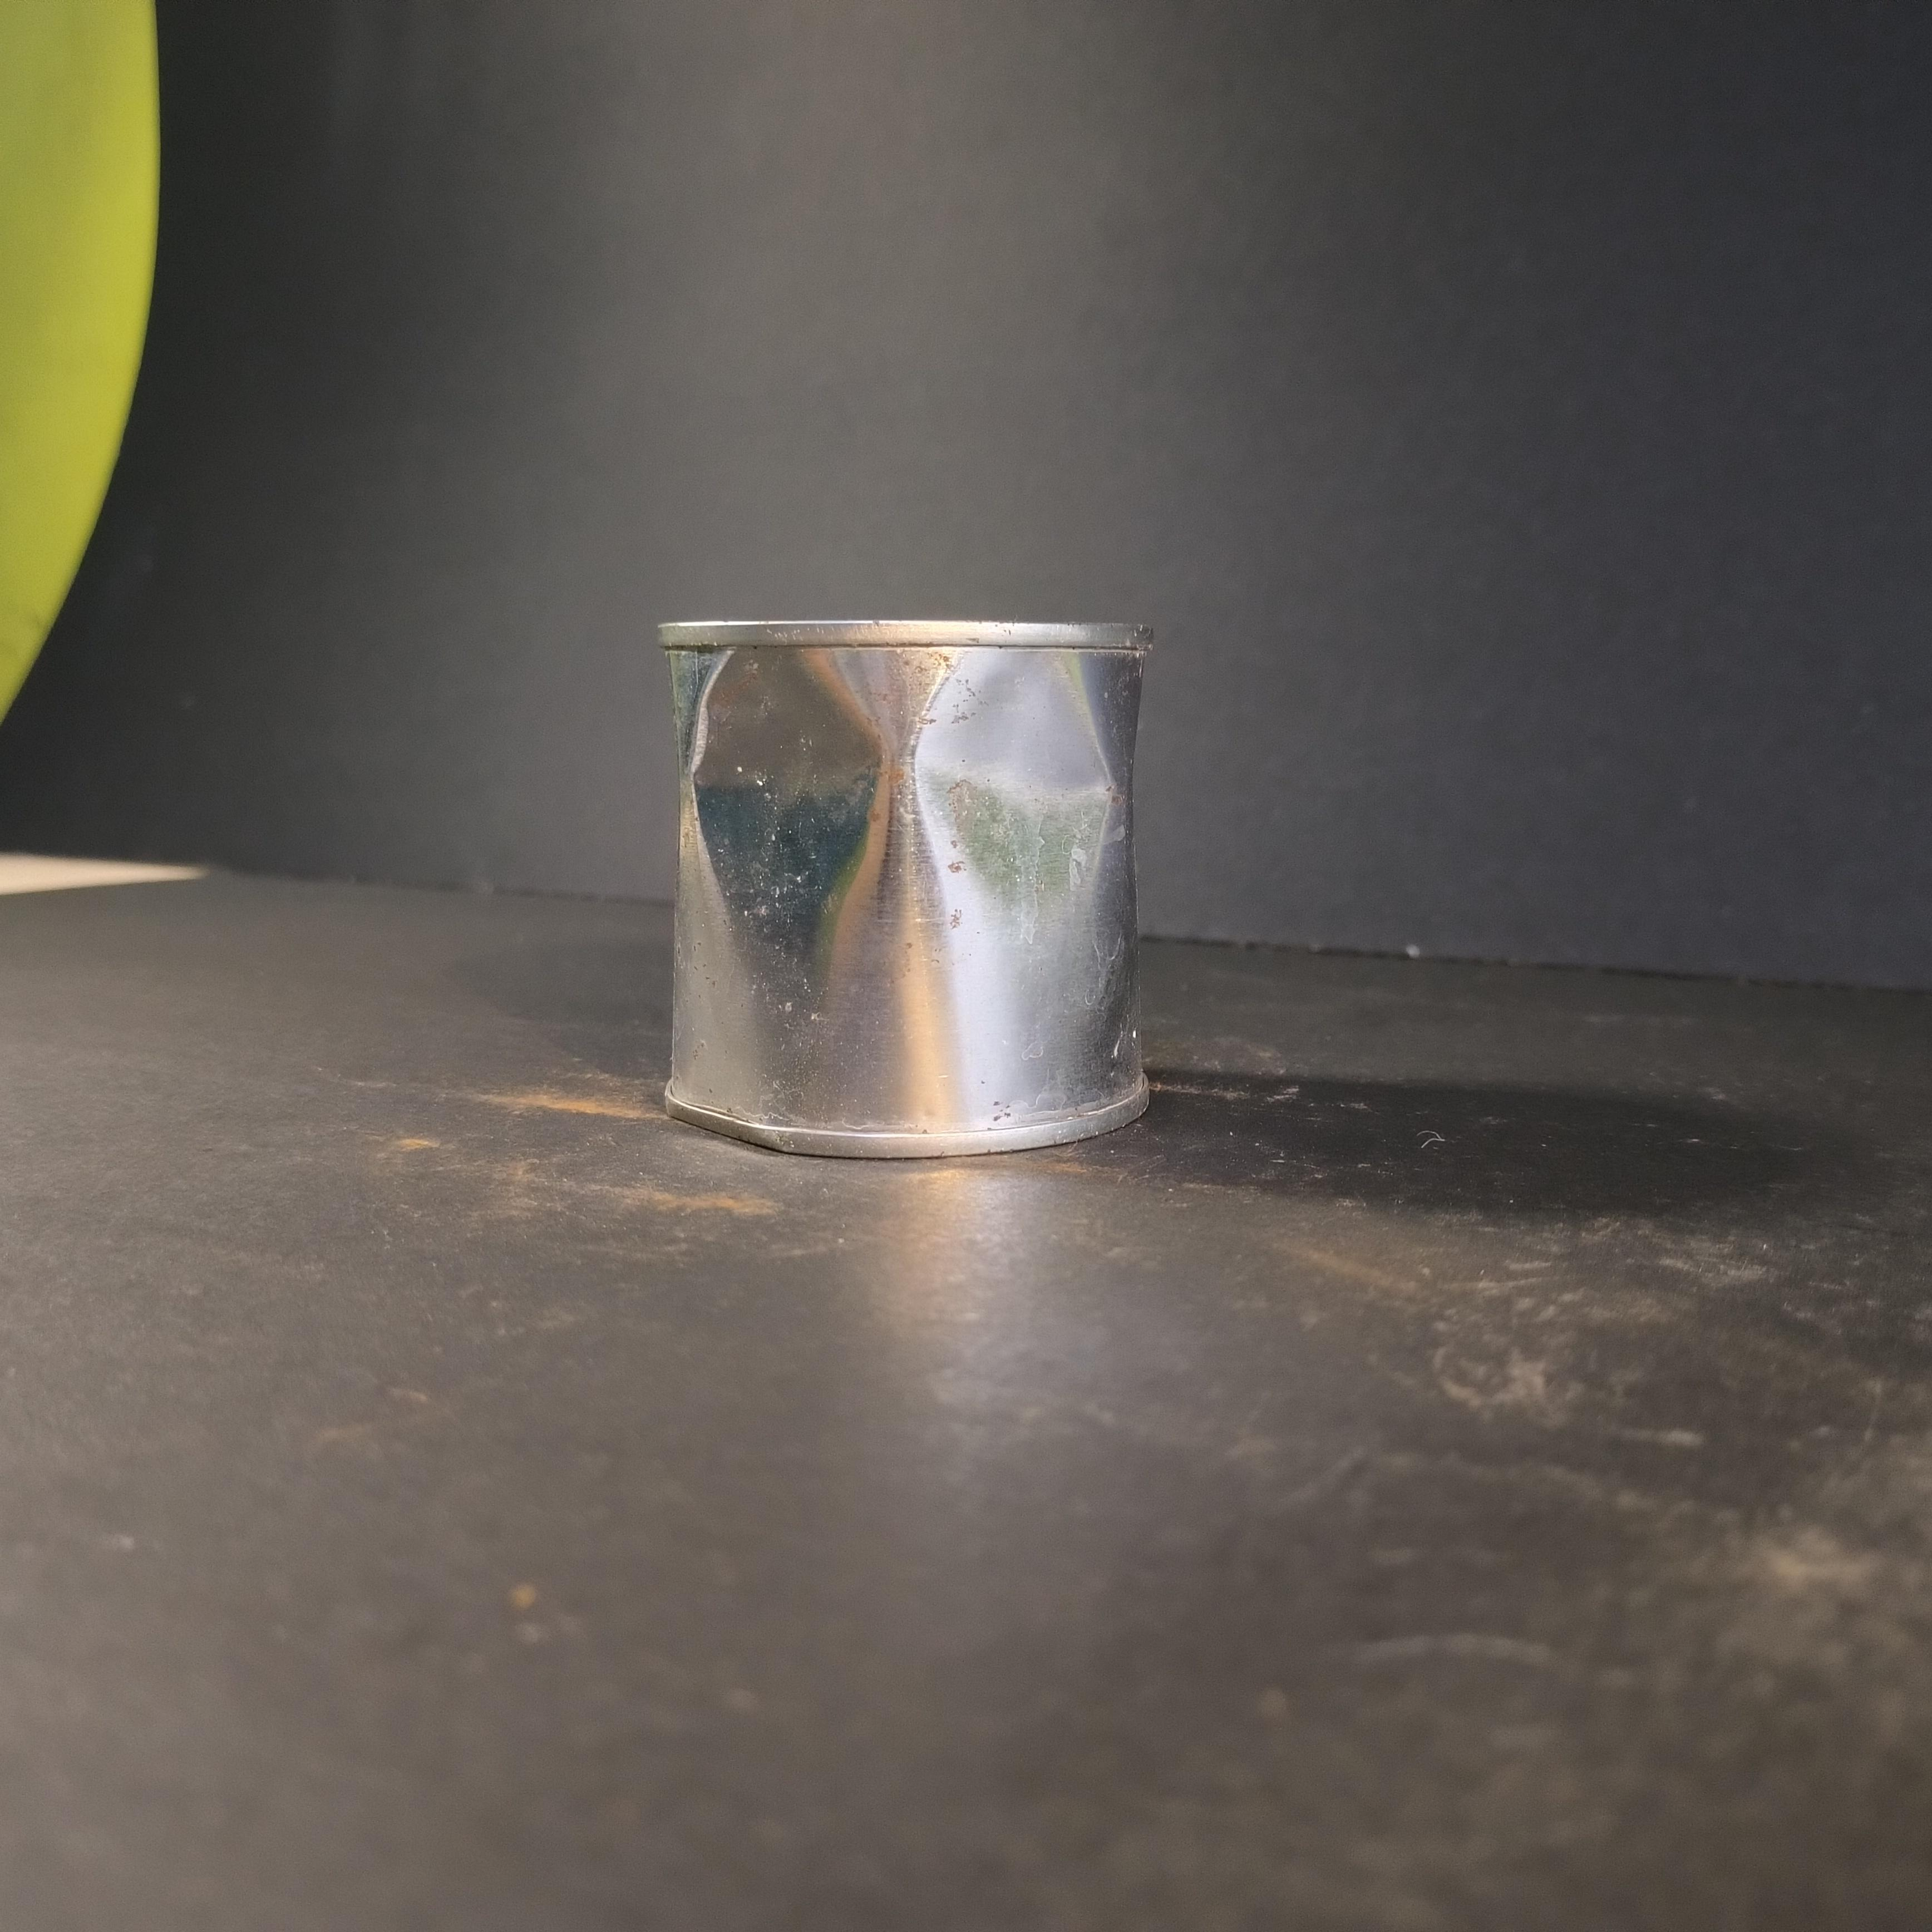Dented: (632, 587, 1168, 1191)
